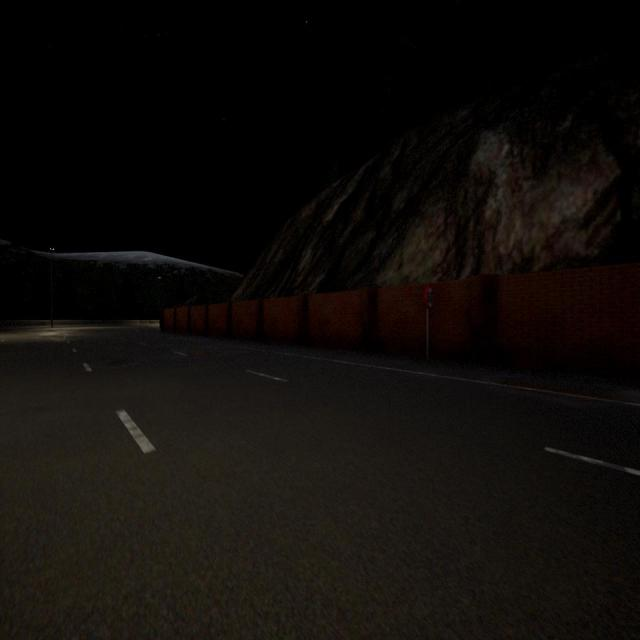Traffic_Signs: (424, 285, 433, 309)
